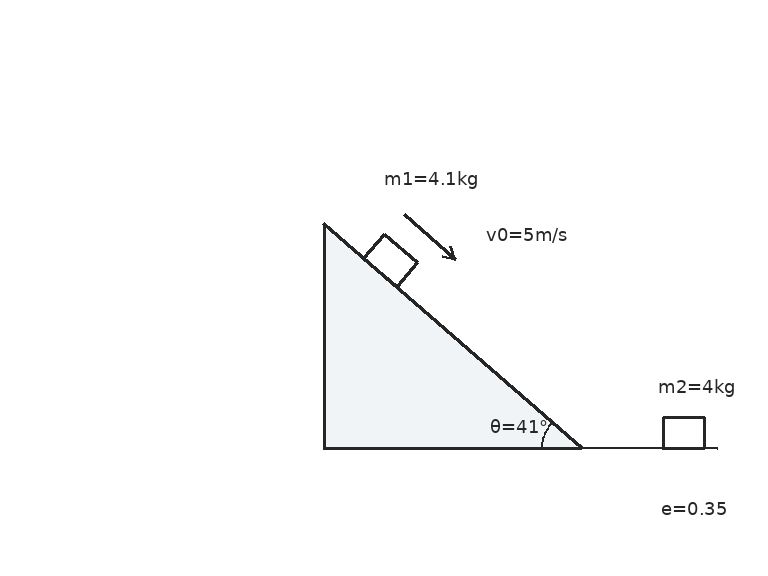block: (361, 231, 420, 289), (660, 415, 706, 450)
ramp: (321, 221, 584, 450)
